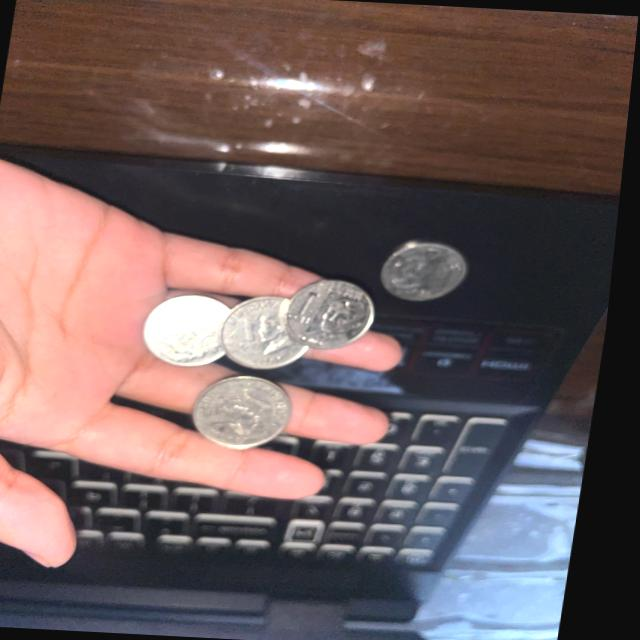1_New_Front: (296, 286, 373, 342)
